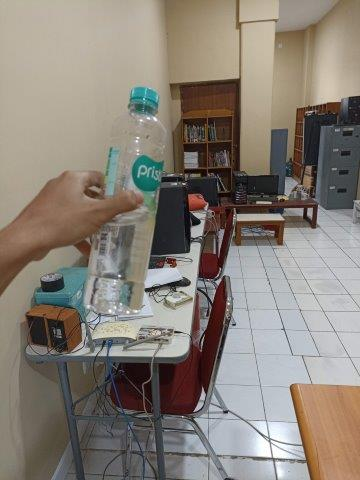botolplastik: (82, 88, 166, 313)
